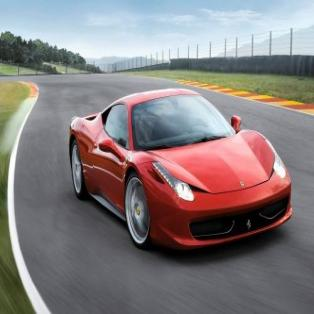Auto: (68, 83, 292, 263)
